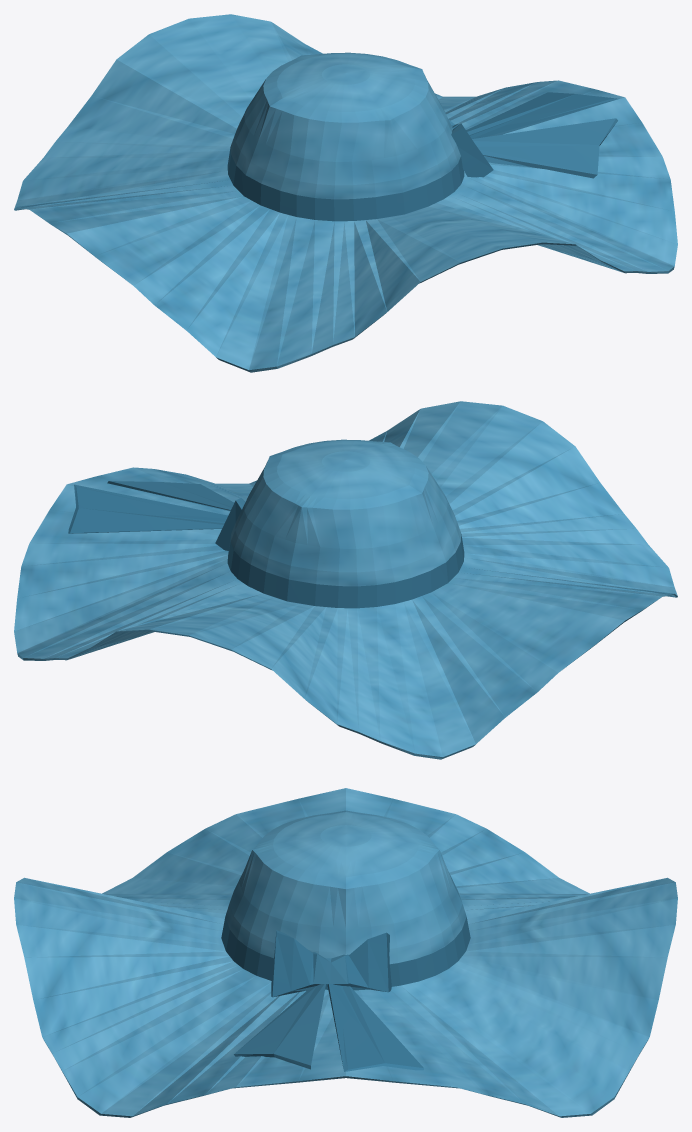
Rendered from SunHat.fbx.
3 views of the same model, one above another, from view 1: azimuth 30°, elevation 25°; view 2: azimuth 150°, elevation 25°; view 3: azimuth 270°, elevation 25° (orthographic). The views are drawn at different scales.
Visible parts, largest first — view 1: Cube; view 2: Cube; view 3: Cube.
Part boxes in pixels (x1,y1,x2,y2): Cube: (14, 14, 677, 372); Cube: (14, 401, 677, 759); Cube: (14, 788, 677, 1117).
Size of the model in its own units: 80.03 by 22.3 by 77.94.
